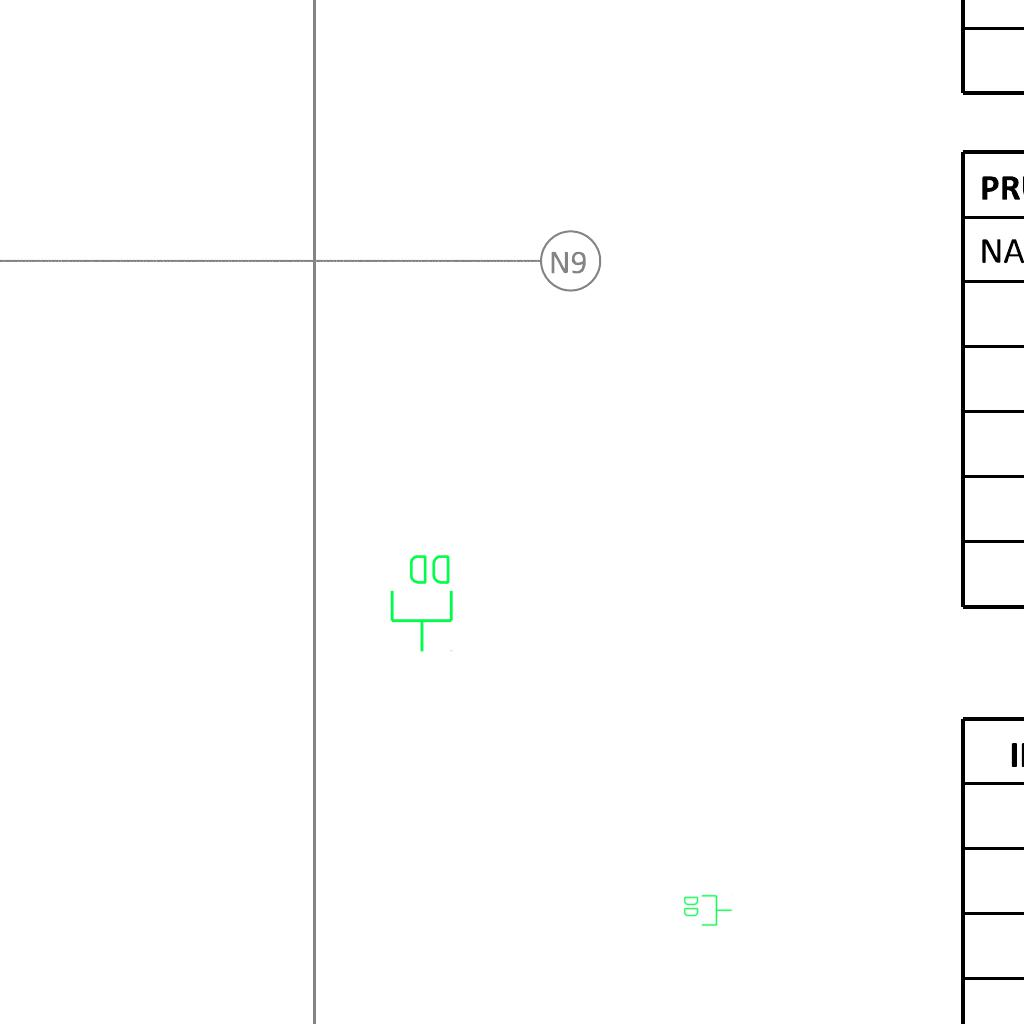Datenanschluss_zweifach: (388, 551, 457, 654), (682, 893, 733, 927)
